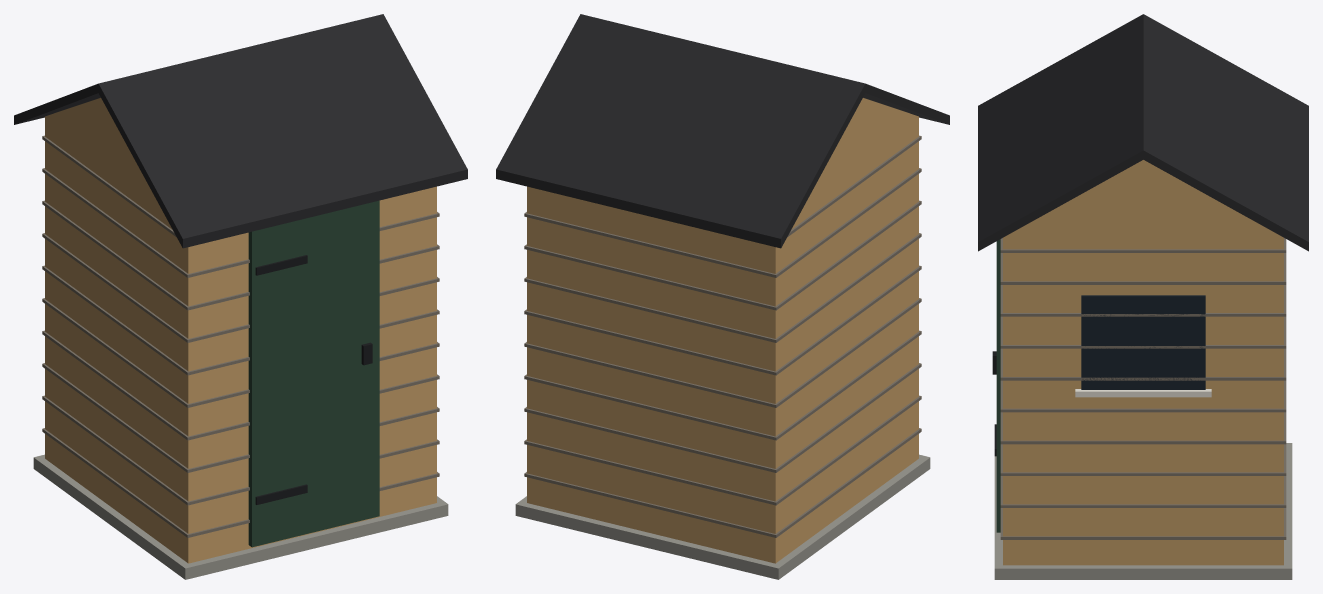
The model's file is garden_shed.glb.
3 views of the same model, side by side, from view 1: azimuth 30°, elevation 25°; view 2: azimuth 150°, elevation 25°; view 3: azimuth 270°, elevation 25° (orthographic).
Parts seen in each view (by area): view 1: garden_shed; view 2: garden_shed; view 3: garden_shed.
Boxes of the visible parts, <box> form: garden_shed: <box>14,14,467,579</box>; garden_shed: <box>496,14,949,579</box>; garden_shed: <box>978,14,1308,579</box>.
Bounding box in the file's own units: 1.56 × 2.32 × 1.6.
1 material, 1 textured.
